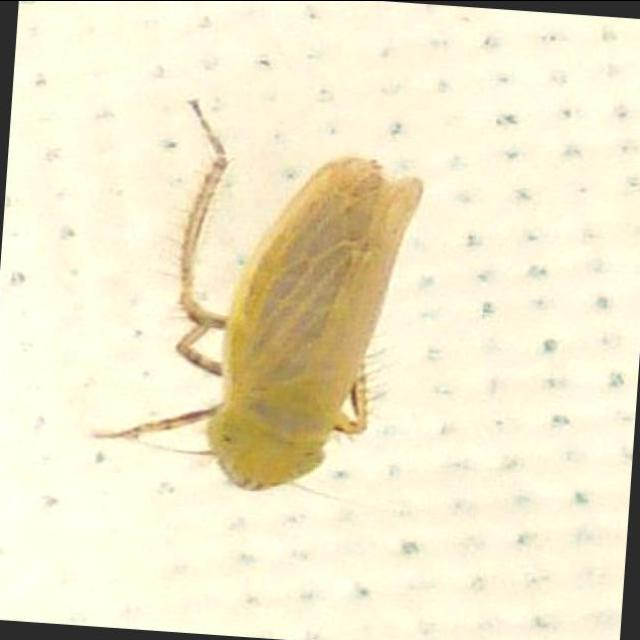green leaf hopper: (94, 102, 421, 490)
